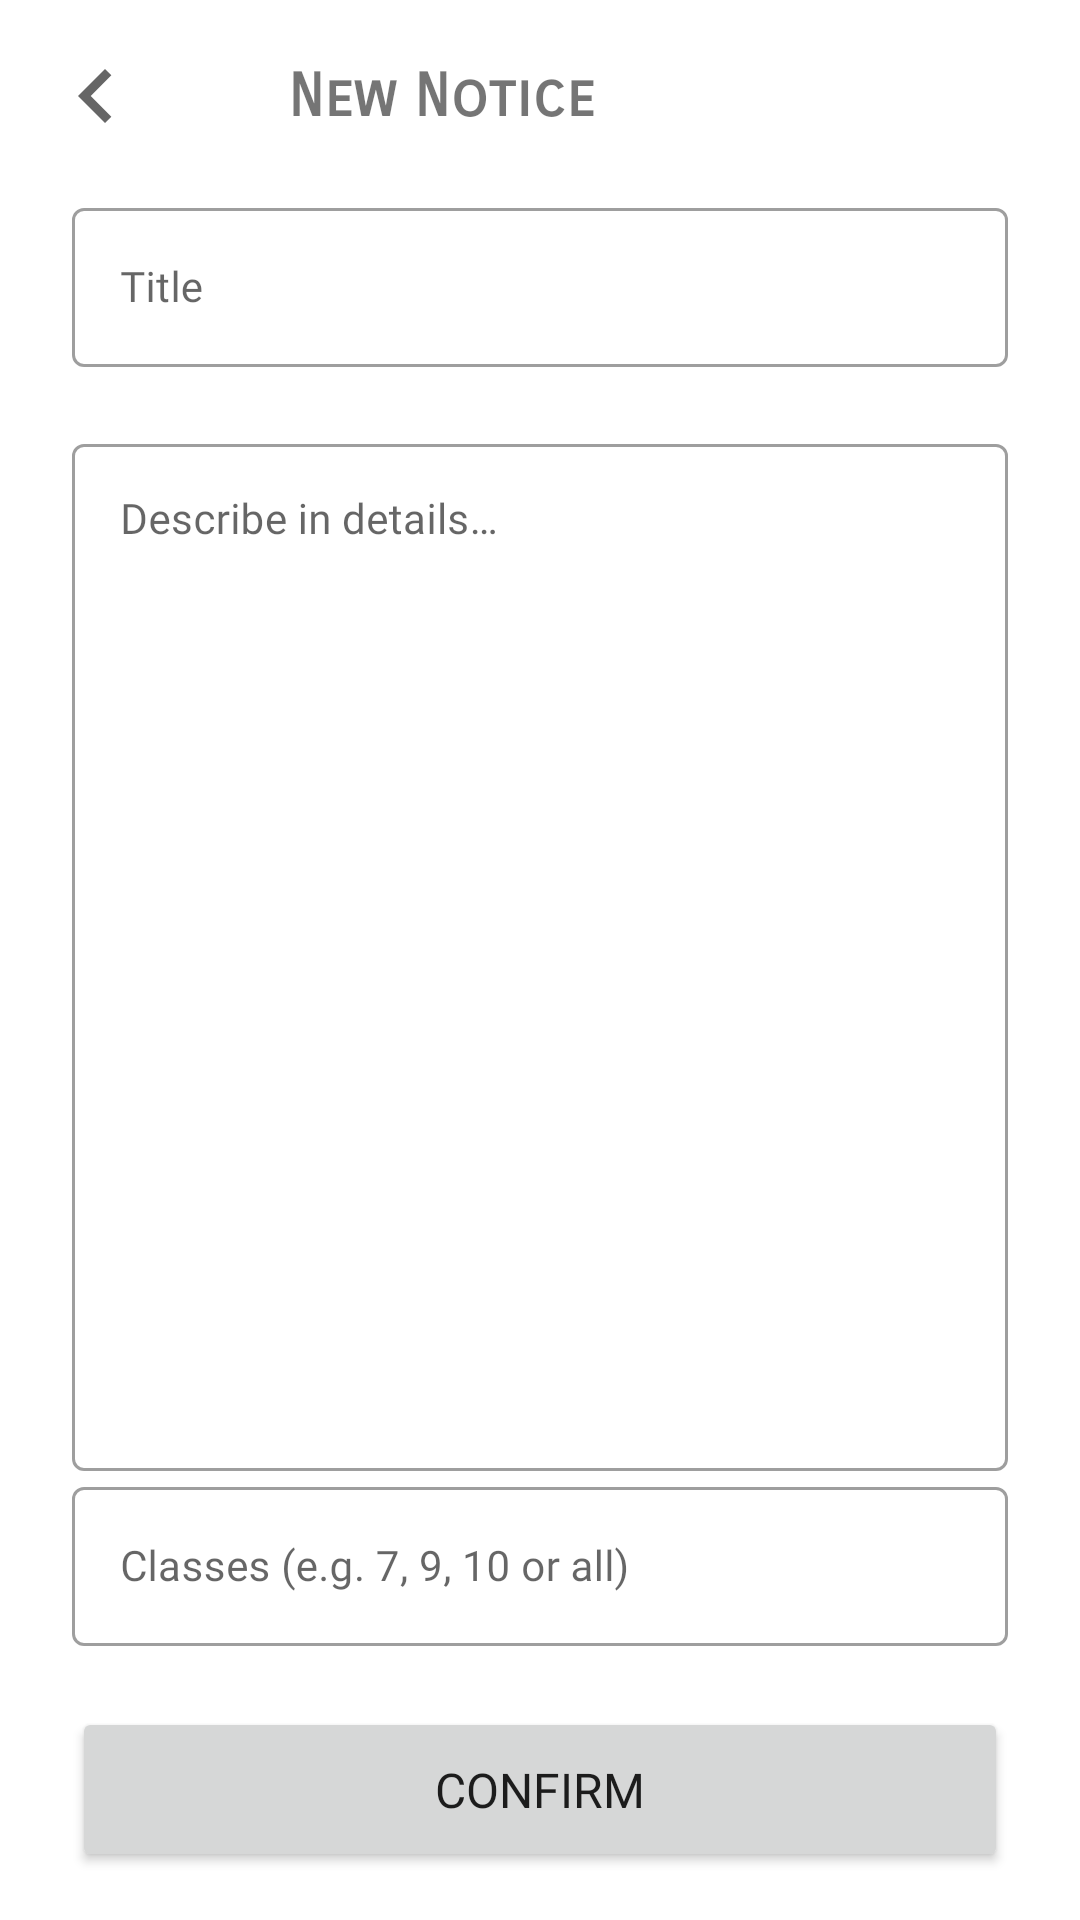

Where to tap for icons on this 1080px×1920px app screen, as [x,y]:
navigate back: [94,96]
